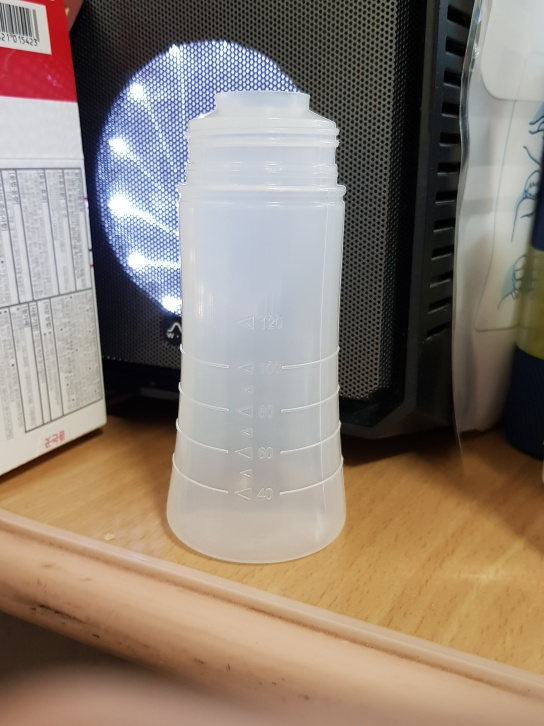Plastic: (165, 90, 348, 563)
